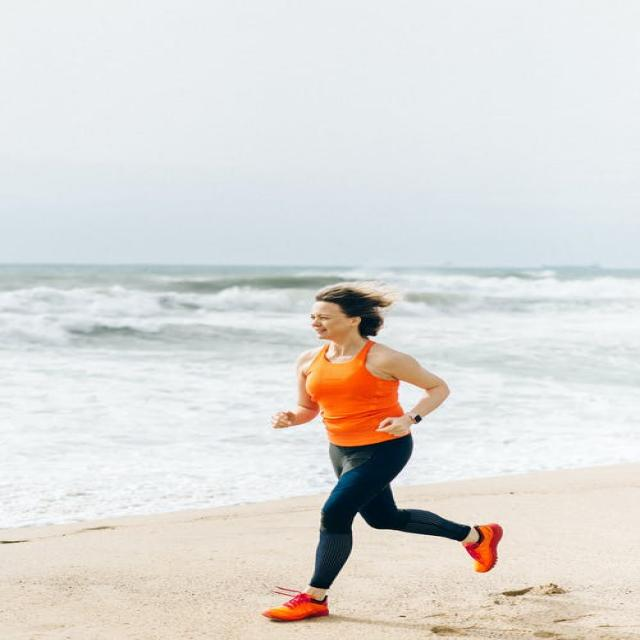running: (254, 282, 506, 632)
